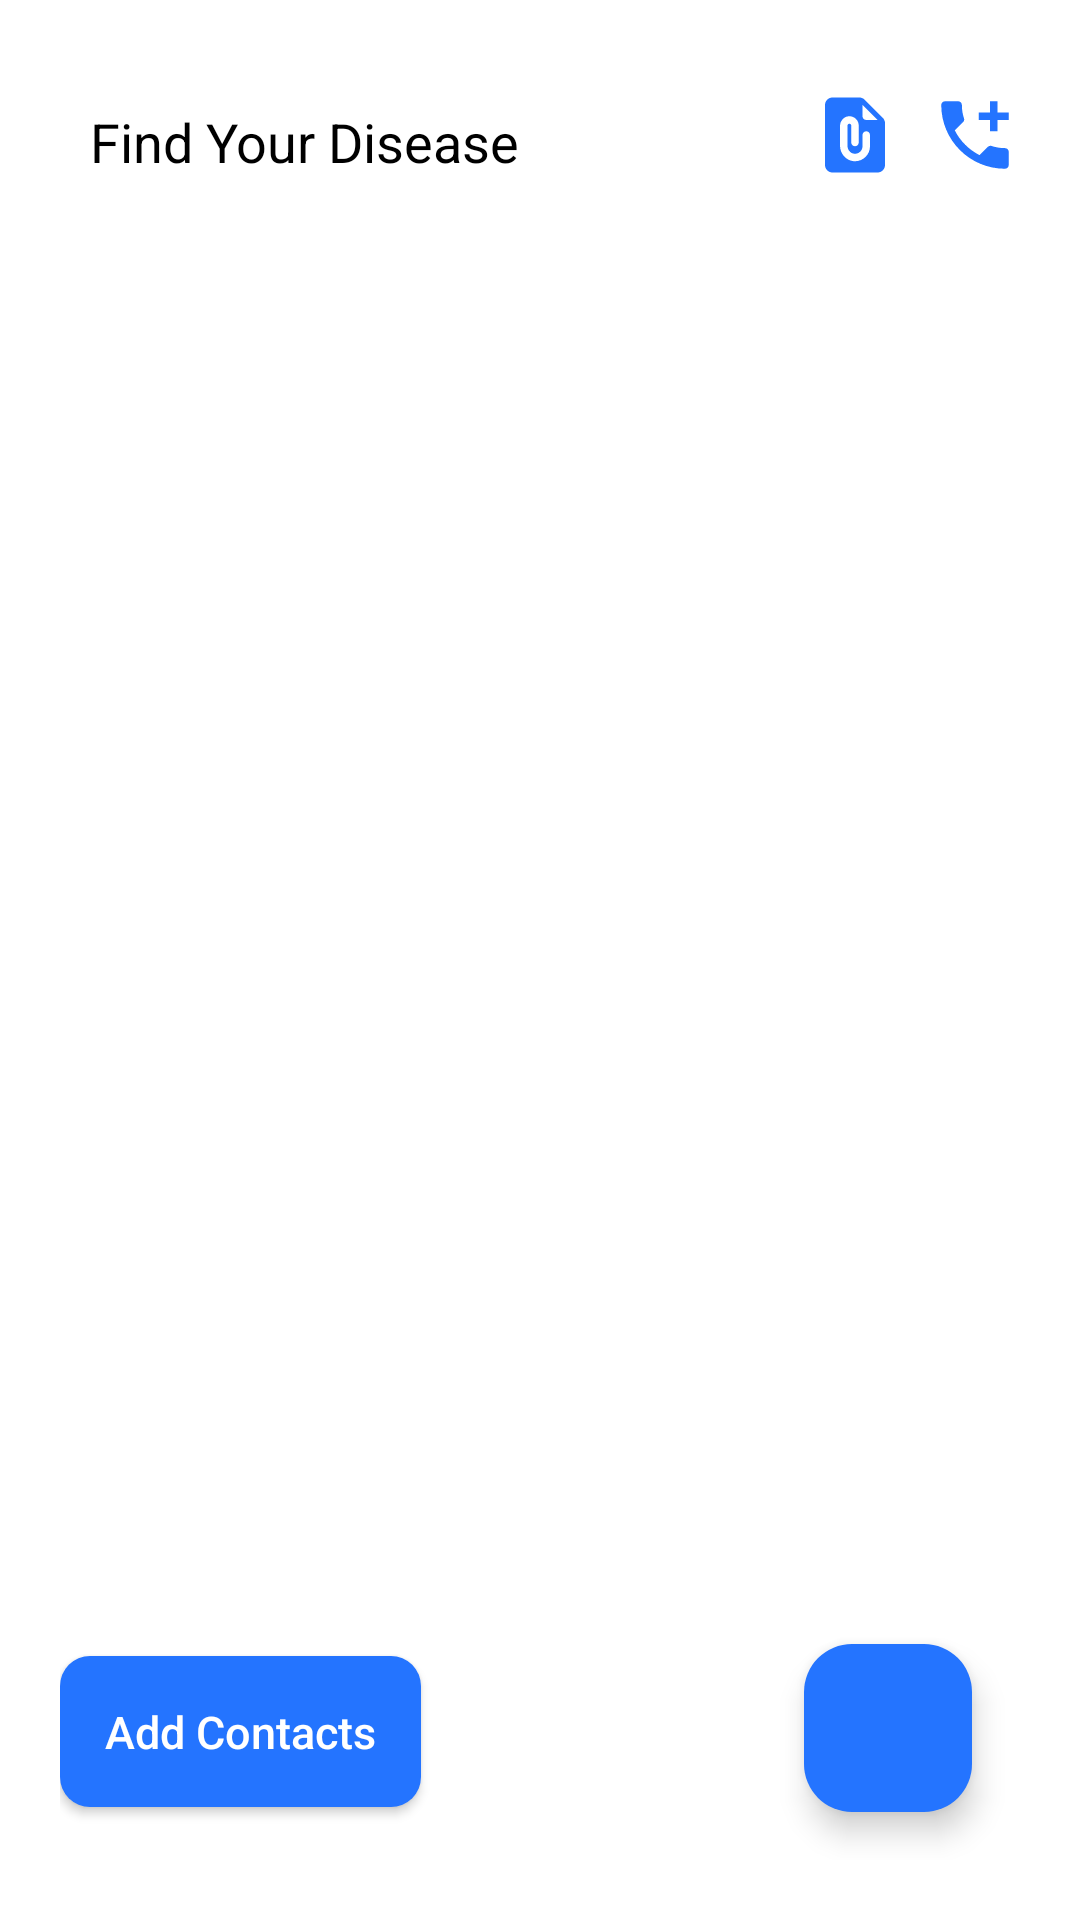

Icon click points for this 1080×1920 phone screenshot, format (x,y):
contact: (975,135)
